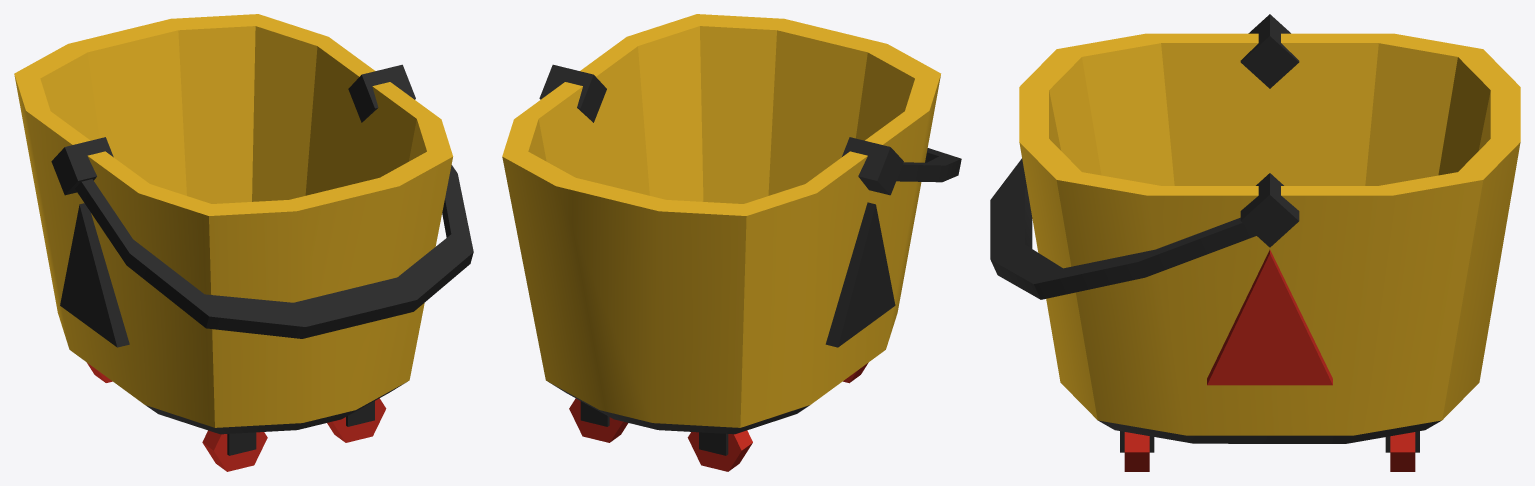
Rendered from cleaning_cube.glb.
3 views of the same model, side by side, from view 1: azimuth 30°, elevation 25°; view 2: azimuth 150°, elevation 25°; view 3: azimuth 270°, elevation 25° (orthographic). The views are drawn at different scales.
Visible parts, largest first — view 1: mesh_cleaningbucket_01; view 2: mesh_cleaningbucket_01; view 3: mesh_cleaningbucket_01.
Boxes of the visible parts, <box> form: mesh_cleaningbucket_01: <box>14,14,473,471</box>; mesh_cleaningbucket_01: <box>502,14,961,471</box>; mesh_cleaningbucket_01: <box>990,14,1520,471</box>.
Bounding box in the file's own units: 0.5003 × 0.4242 × 0.6201.
1 material, 1 textured.
